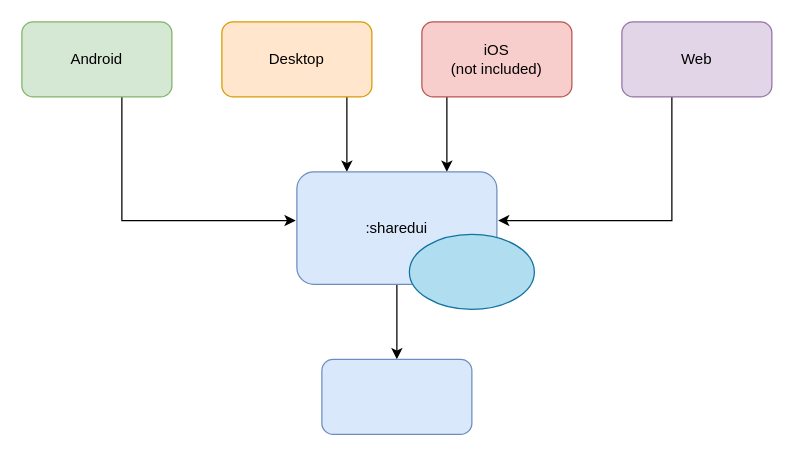
The diagram is 794 pixels wide and 456 high, and some of its shapes have lost their labels. The centre of each missing label's shape, as x and y in pixels:
:domain: [396,396]
@Composable HelloWorld: [471,271]
